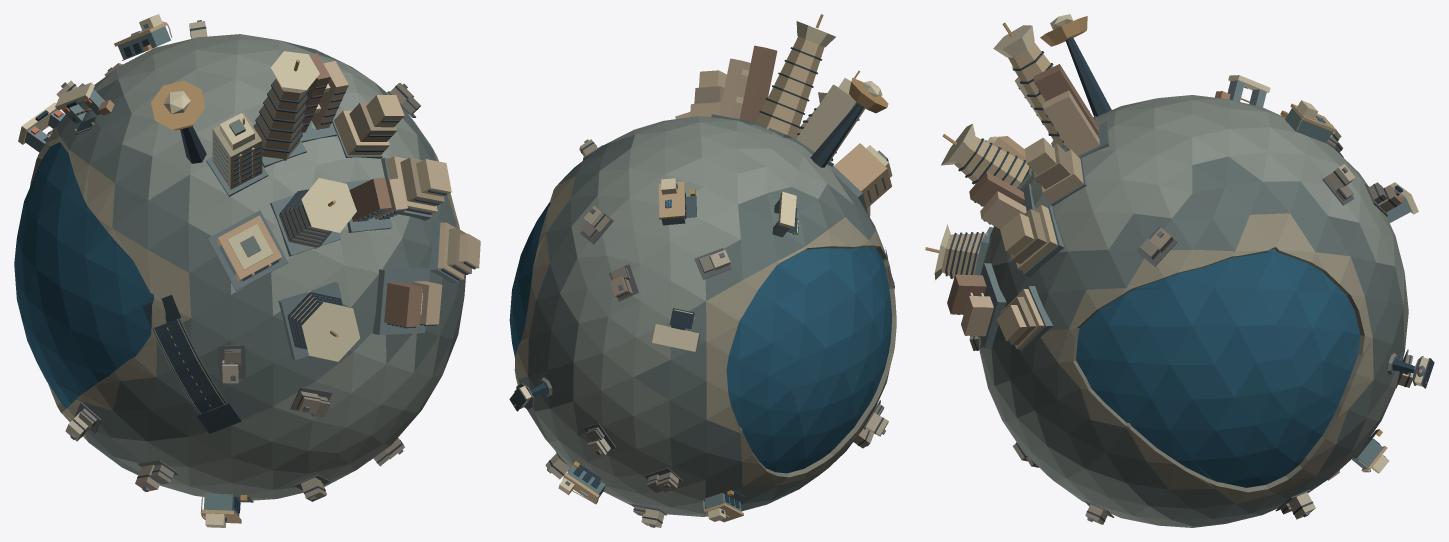
The model's file is earth-mobile.glb.
3 views of the same model, side by side, from view 1: azimuth 30°, elevation 25°; view 2: azimuth 150°, elevation 25°; view 3: azimuth 270°, elevation 25° (orthographic). The views are drawn at different scales.
Parts seen in each view (by area): view 1: Terrain • modeled surfaces, Structures • modeled surfaces, Activity_city-car_road • modeled surfaces; view 2: Terrain • modeled surfaces, Structures • modeled surfaces; view 3: Terrain • modeled surfaces, Structures • modeled surfaces.
Boxes of the visible parts, x1,y1,x2,y2 form: Terrain • modeled surfaces: (14,34,465,500); Structures • modeled surfaces: (18,14,480,527); Activity_city-car_road • modeled surfaces: (142,295,241,433); Terrain • modeled surfaces: (509,116,896,516); Structures • modeled surfaces: (509,14,892,527); Terrain • modeled surfaces: (978,95,1408,527); Structures • modeled surfaces: (925,14,1434,524).
Bounding box in the file's own units: 1.97 × 2.44 × 2.41.
